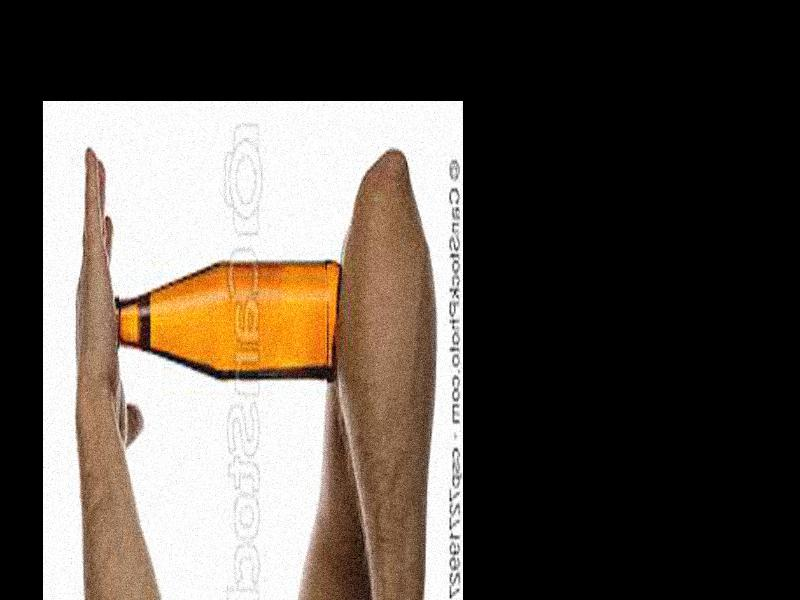Beer: (112, 257, 337, 386)
